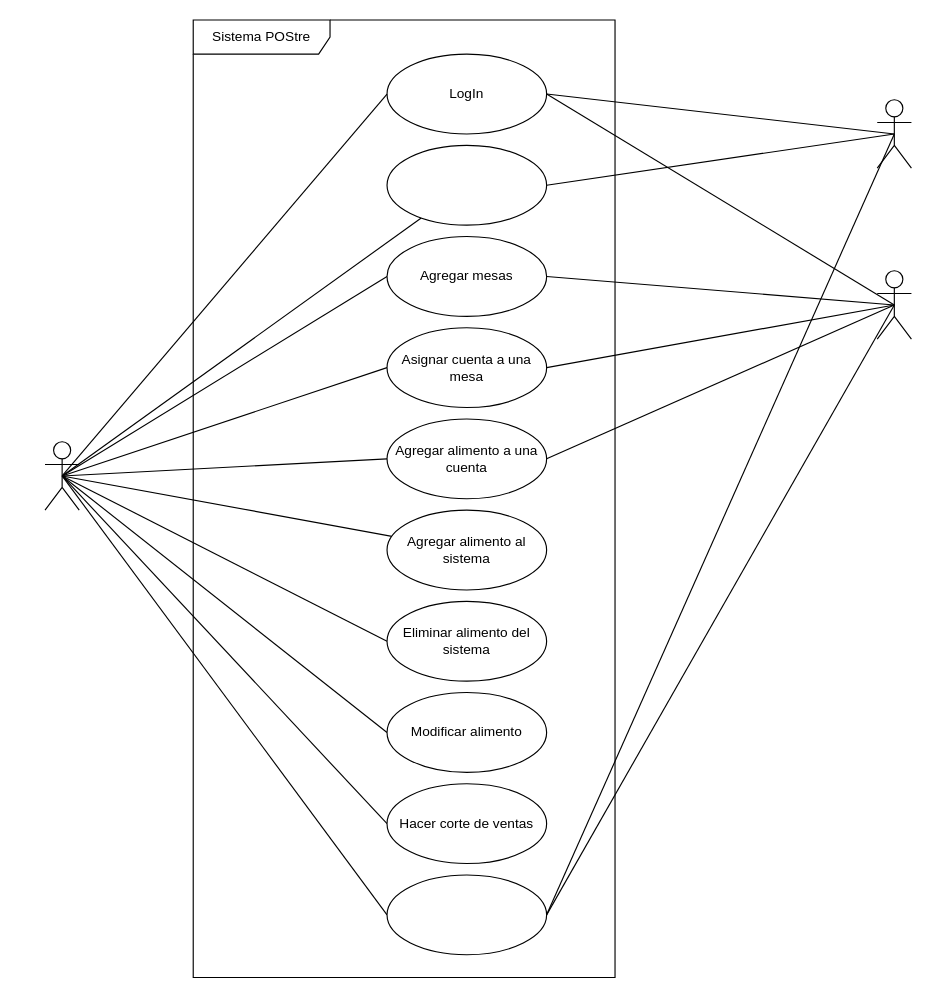
The diagram is 936 pixels wide and 998 high, and some of its shapes have lost their labels. The centre of each missing label's shape, as x and y in pixels:
"Administrador" belongs at point (61, 475).
"Cajero" belongs at point (893, 133).
"Cerrar sesion" belongs at point (466, 914).
"Cobrar la cuenta" belongs at point (466, 184).
"Mesero" belongs at point (893, 304).
